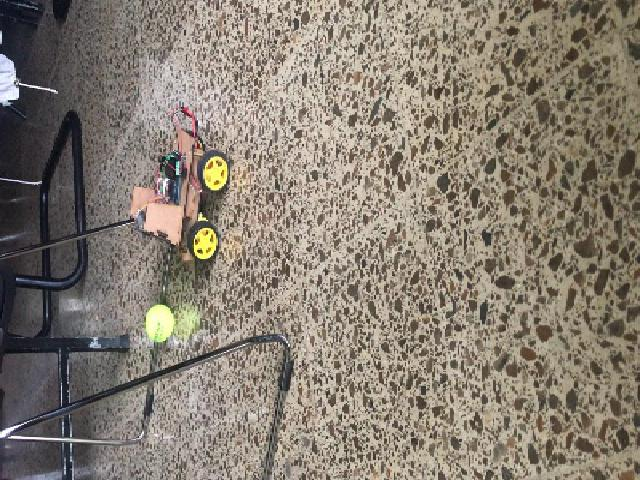Ball: (144, 304, 174, 342)
Robot: (128, 127, 229, 263)
